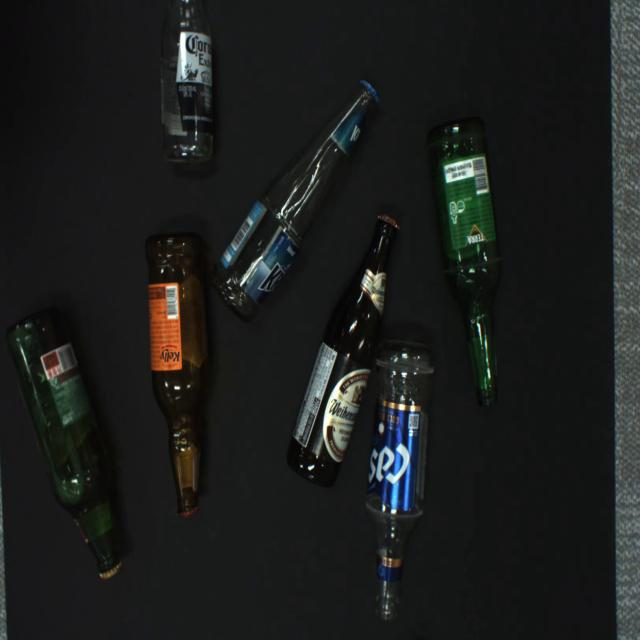beer-bottle: (210, 79, 380, 324), (4, 305, 123, 580), (286, 214, 400, 488), (427, 116, 502, 407), (366, 339, 435, 623), (144, 233, 210, 518), (161, 0, 214, 165)
